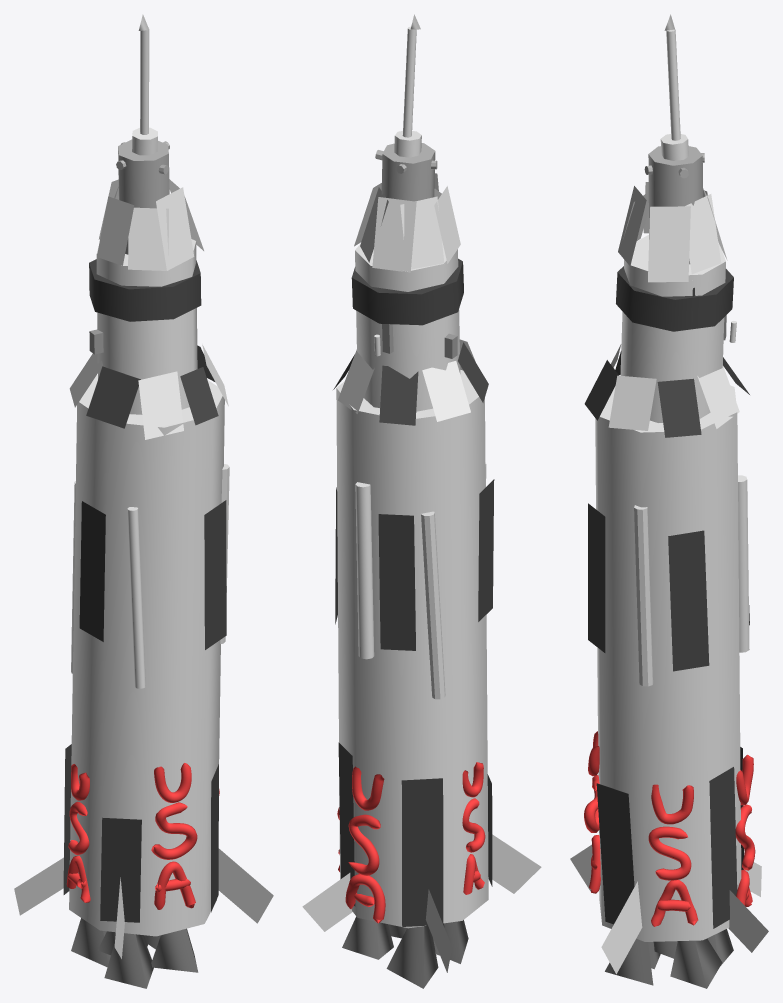
The model's file is spatiate.glb.
3 renders of one model, left to right at view 1: azimuth 30°, elevation 25°; view 2: azimuth 150°, elevation 25°; view 3: azimuth 270°, elevation 25°, orthographic.
Visible parts, largest first — view 1: position, RGBA(0.067, 0.067, 0.067, 1.000):ButtonWhite (Instance) (Ins, RGBA(0.498, 0.498, 0.498, 1.000):ButtonWhite (Instance) (Ins; view 2: position, RGBA(0.067, 0.067, 0.067, 1.000):ButtonWhite (Instance) (Ins, RGBA(0.498, 0.498, 0.498, 1.000):ButtonWhite (Instance) (Ins; view 3: position, RGBA(0.067, 0.067, 0.067, 1.000):ButtonWhite (Instance) (Ins, RGBA(0.498, 0.498, 0.498, 1.000):ButtonWhite (Instance) (Ins.
Part boxes in pixels (x1,y1,x2,y2): position: (14, 27, 273, 988); RGBA(0.067, 0.067, 0.067, 1.000):ButtonWhite (Instance) (Ins: (89, 259, 201, 321); RGBA(0.498, 0.498, 0.498, 1.000):ButtonWhite (Instance) (Ins: (118, 139, 169, 254); position: (302, 26, 541, 988); RGBA(0.067, 0.067, 0.067, 1.000):ButtonWhite (Instance) (Ins: (351, 258, 463, 325); RGBA(0.498, 0.498, 0.498, 1.000):ButtonWhite (Instance) (Ins: (381, 143, 435, 201); position: (570, 29, 768, 988); RGBA(0.067, 0.067, 0.067, 1.000):ButtonWhite (Instance) (Ins: (616, 266, 733, 331); RGBA(0.498, 0.498, 0.498, 1.000):ButtonWhite (Instance) (Ins: (648, 146, 702, 264).
Size of the model in its own units: 0.1881 by 0.9493 by 0.1789.
